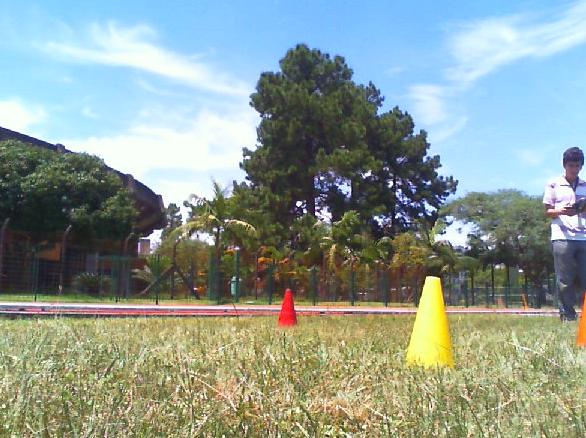0 cone: (403, 276, 454, 369), (277, 288, 299, 327), (575, 291, 586, 347)
